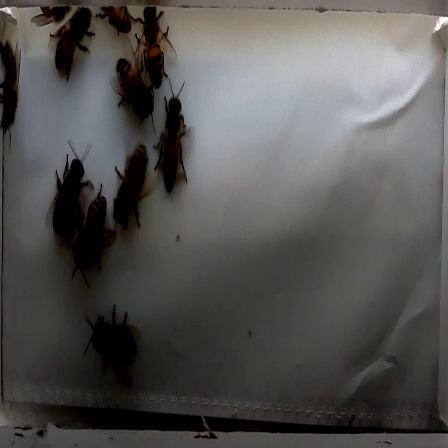bee: (65, 301, 156, 392), (103, 140, 156, 245), (149, 88, 195, 200), (66, 185, 117, 284), (44, 4, 103, 87), (107, 47, 160, 131), (48, 143, 90, 245), (133, 4, 177, 90), (1, 34, 29, 152)
